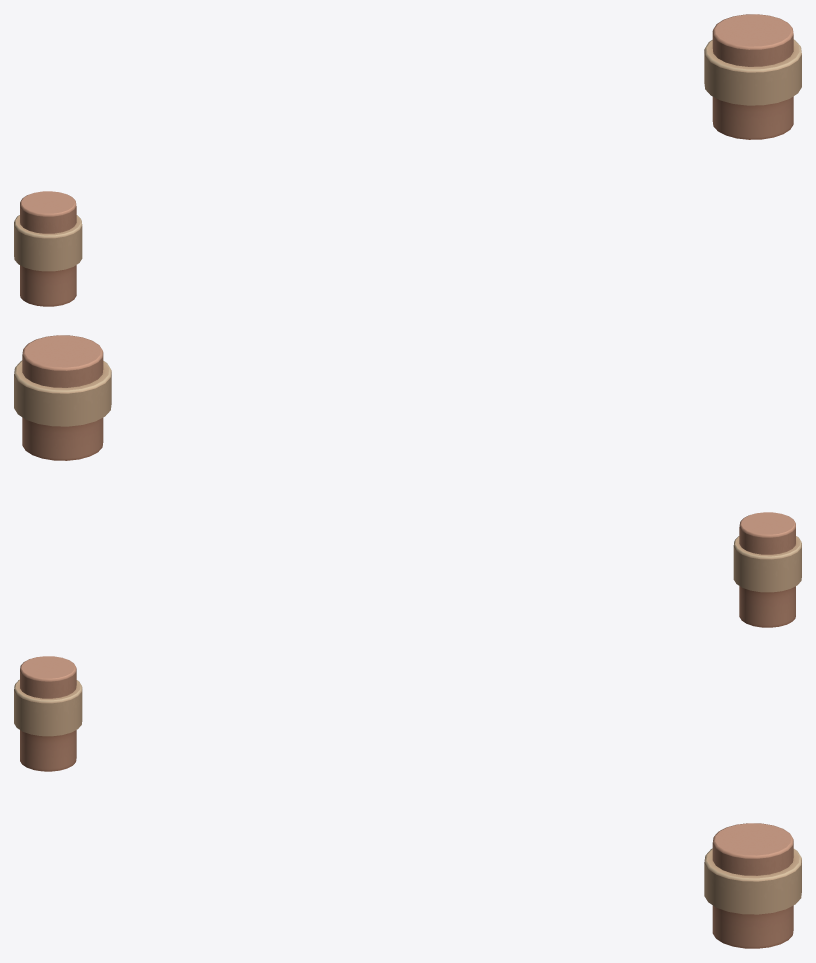
Rendered from Props.fbx.
The picture shows the model from 3 angles, top to bottom: view 1: azimuth 30°, elevation 25°; view 2: azimuth 150°, elevation 25°; view 3: azimuth 330°, elevation 25°; orthographic projection.
Visible parts, largest first — view 1: Cylinder, Cylinder-2; view 2: Cylinder, Cylinder-2; view 3: Cylinder, Cylinder-2.
Boxes of the visible parts, <box> form: Cylinder: <box>704,14,801,139</box>; Cylinder-2: <box>14,191,82,306</box>; Cylinder: <box>14,335,111,460</box>; Cylinder-2: <box>733,512,801,627</box>; Cylinder: <box>704,823,801,948</box>; Cylinder-2: <box>14,656,82,771</box>.
Bounding box in the file's own units: 44.1 × 5 × 4.82.
